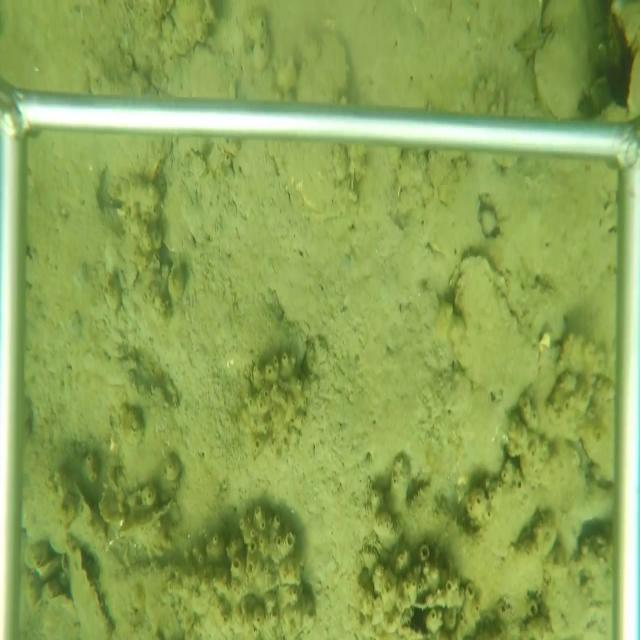Oyster-Closed: (436, 254, 543, 415), (67, 533, 116, 639)
Oyster-Indeterminate: (532, 1, 601, 118), (293, 27, 350, 104)
